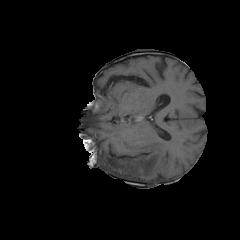glioma: (89, 141, 166, 181)
